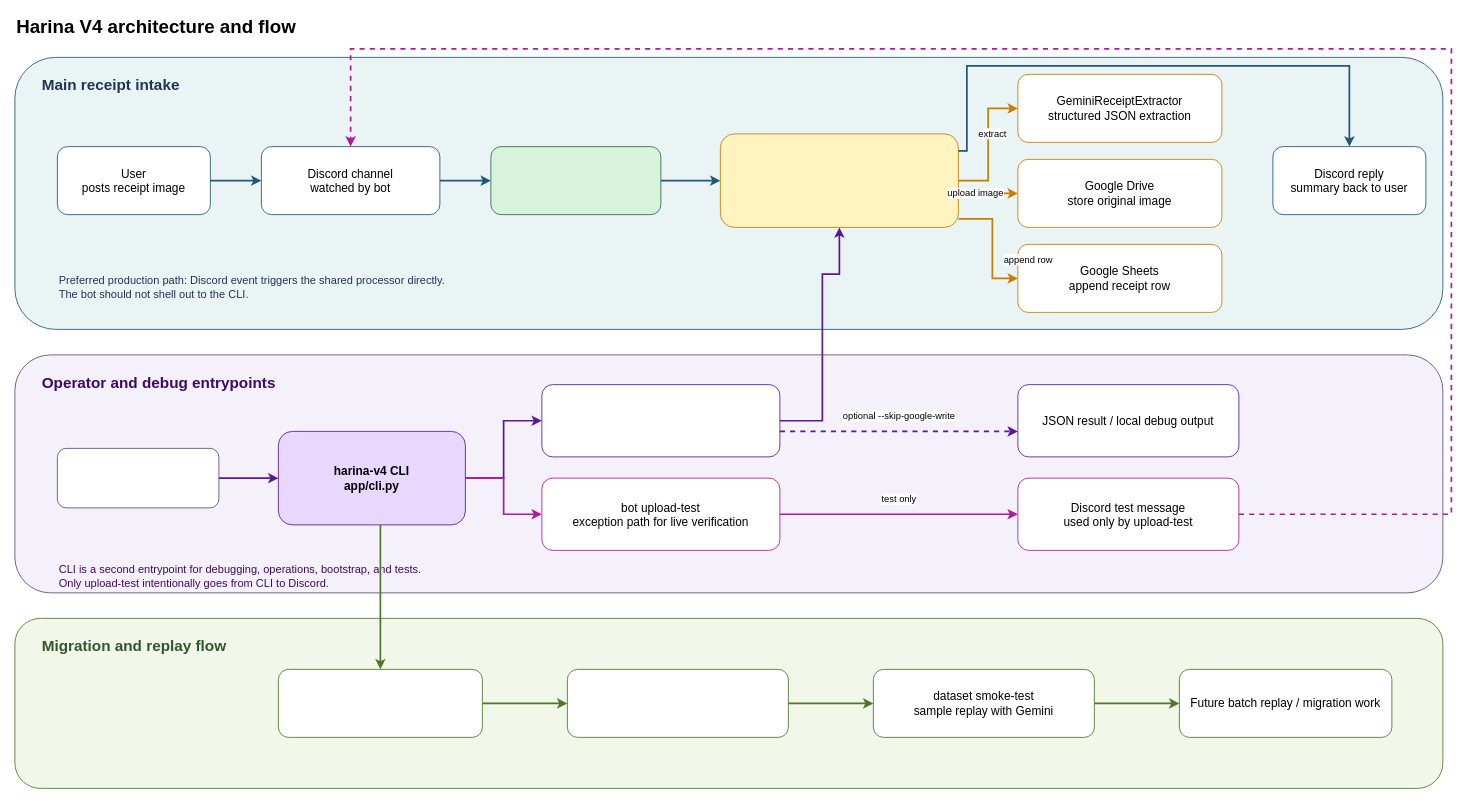
Some shapes in this 1474 by 803 pixel diagram are drawn without their labels. The shapes that lost their labels are listed below. From the top down, each one's centre as x and y in pixels, then its label:
(x=575, y=180): ReceiptBot app/bot.py
(x=839, y=180): Shared receipt pipeline ReceiptProcessor app/processor.py
(x=660, y=420): receipt process local image -> shared pipeline
(x=138, y=478): Operator / developer
(x=380, y=703): dataset download read Discord history
(x=677, y=703): Local dataset images + metadata.jsonl
